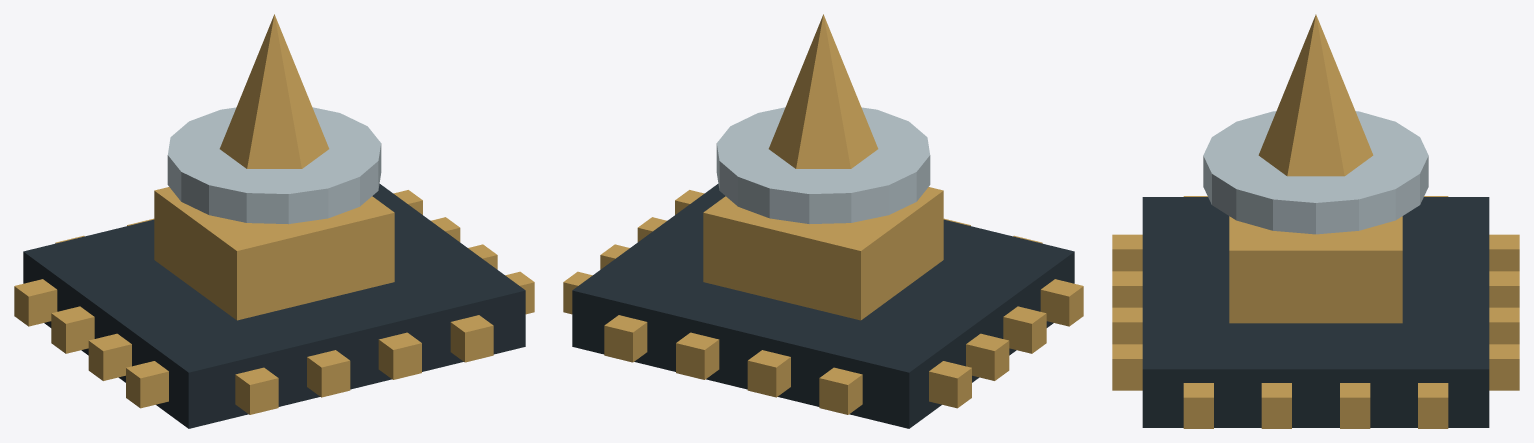
Rendered from plugin-lightweight-support.glb.
The picture shows the model from 3 angles, left to right: view 1: azimuth 30°, elevation 25°; view 2: azimuth 150°, elevation 25°; view 3: azimuth 270°, elevation 25°; orthographic projection. The views are drawn at different scales.
Parts seen in each view (by area): view 1: plugin circuit substrate, processor block, support crystal ring, support crystal, gold edge connector.008, gold edge connector.009, gold edge connector.011, gold edge connector.010, gold edge connector, gold edge connector.001, gold edge connector.003, gold edge connector.002 (+1 smaller); view 2: plugin circuit substrate, processor block, support crystal ring, support crystal, gold edge connector.012, gold edge connector.013, gold edge connector.015, gold edge connector.014, gold edge connector.003, gold edge connector.002, gold edge connector, gold edge connector.001 (+1 smaller); view 3: plugin circuit substrate, support crystal ring, processor block, support crystal, gold edge connector.011, gold edge connector.015, gold edge connector.004, gold edge connector.005, gold edge connector.006, gold edge connector.007, gold edge connector.008, gold edge connector.010 (+4 smaller).
Part boxes in pixels (bbox=[...]): plugin circuit substrate: bbox=[23, 184, 525, 428]; processor block: bbox=[154, 187, 394, 320]; support crystal ring: bbox=[167, 107, 381, 224]; support crystal: bbox=[219, 14, 329, 168]; gold edge connector.008: bbox=[235, 367, 278, 414]; gold edge connector.009: bbox=[307, 350, 350, 397]; gold edge connector.011: bbox=[450, 315, 493, 362]; gold edge connector.010: bbox=[378, 332, 421, 379]; gold edge connector: bbox=[126, 361, 168, 408]; gold edge connector.001: bbox=[88, 333, 131, 380]; gold edge connector.003: bbox=[14, 279, 57, 326]; gold edge connector.002: bbox=[51, 306, 94, 353]; plugin circuit substrate: bbox=[572, 184, 1074, 428]; processor block: bbox=[703, 187, 943, 320]; support crystal ring: bbox=[716, 107, 930, 224]; support crystal: bbox=[768, 14, 878, 168]; gold edge connector.012: bbox=[819, 367, 862, 414]; gold edge connector.013: bbox=[747, 350, 790, 397]; gold edge connector.015: bbox=[604, 315, 647, 362]; gold edge connector.014: bbox=[676, 332, 719, 379]; gold edge connector.003: bbox=[929, 361, 971, 408]; gold edge connector.002: bbox=[966, 333, 1009, 380]; gold edge connector: bbox=[1040, 279, 1083, 326]; gold edge connector.001: bbox=[1003, 306, 1046, 353]; plugin circuit substrate: bbox=[1142, 197, 1489, 427]; support crystal ring: bbox=[1203, 111, 1428, 234]; processor block: bbox=[1229, 216, 1402, 323]; support crystal: bbox=[1258, 14, 1373, 176]; gold edge connector.011: bbox=[1112, 344, 1142, 390]; gold edge connector.015: bbox=[1489, 344, 1519, 390]; gold edge connector.004: bbox=[1183, 383, 1213, 428]; gold edge connector.005: bbox=[1261, 383, 1291, 428]; gold edge connector.006: bbox=[1340, 383, 1370, 428]; gold edge connector.007: bbox=[1418, 383, 1448, 428]; gold edge connector.008: bbox=[1112, 234, 1142, 271]; gold edge connector.010: bbox=[1112, 307, 1142, 344].
Bounding box in the file's own units: 1.1 × 0.835 × 0.94.
